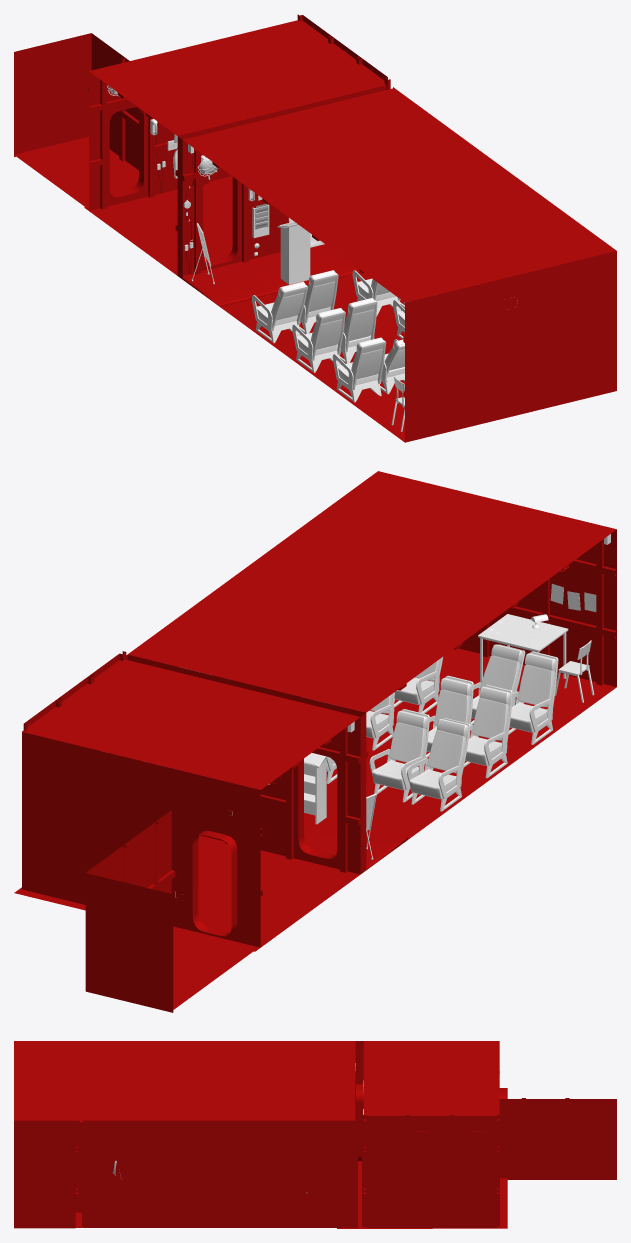
The model's file is ready_room.FBX.
The picture shows the model from 3 angles, top to bottom: view 1: azimuth 30°, elevation 25°; view 2: azimuth 150°, elevation 25°; view 3: azimuth 270°, elevation 25°; orthographic projection. The views are drawn at different scales.
Parts seen in each view (by area): view 1: pPlane11, extracted_32, pPlane12, extracted_39, extracted_38, extracted_43, extracted_24, pPlane1, extracted_04, extracted_41, fotel1, fotel5 (+7 smaller); view 2: pPlane11, extracted_38, pPlane12, extracted_39, extracted_24, extracted_43, extracted_32, fotel9, extracted_41, fotel10, fotel1, fotel5 (+10 smaller); view 3: extracted_17, pPlane11, extracted_38, pPlane12, extracted_39, extracted_32, extracted_43, extracted_08, extracted_06.
Part boxes in pixels (bbox=[...]): pPlane11: bbox=[183, 88, 616, 302]; extracted_32: bbox=[183, 150, 616, 442]; pPlane12: bbox=[89, 20, 385, 135]; extracted_39: bbox=[14, 33, 138, 170]; extracted_38: bbox=[89, 14, 390, 263]; extracted_43: bbox=[84, 176, 232, 275]; extracted_24: bbox=[220, 272, 404, 442]; pPlane1: bbox=[182, 244, 360, 306]; extracted_04: bbox=[182, 140, 288, 275]; extracted_41: bbox=[14, 136, 138, 206]; fotel1: bbox=[332, 337, 386, 402]; fotel5: bbox=[292, 308, 345, 372]; pPlane11: bbox=[128, 471, 616, 712]; extracted_38: bbox=[22, 651, 360, 947]; pPlane12: bbox=[22, 659, 359, 789]; extracted_39: bbox=[85, 810, 173, 1012]; extracted_24: bbox=[326, 648, 616, 839]; extracted_43: bbox=[14, 835, 360, 951]; extracted_32: bbox=[296, 529, 616, 752]; fotel9: bbox=[407, 718, 470, 811]; extracted_41: bbox=[173, 932, 252, 1009]; fotel10: bbox=[369, 709, 429, 802]; fotel1: bbox=[508, 651, 558, 744]; fotel5: bbox=[464, 684, 512, 778]; extracted_17: bbox=[84, 1120, 357, 1227]; pPlane11: bbox=[14, 1041, 355, 1120]; extracted_38: bbox=[359, 1076, 507, 1227]; pPlane12: bbox=[363, 1041, 499, 1120]; extracted_39: bbox=[499, 1099, 616, 1179]; extracted_32: bbox=[14, 1120, 83, 1228]; extracted_43: bbox=[337, 1161, 507, 1228]; extracted_08: bbox=[75, 1120, 81, 1212]; extracted_06: bbox=[355, 1041, 363, 1083].
Bounding box in the file's own units: 4.36 × 2.88 × 13.83.
